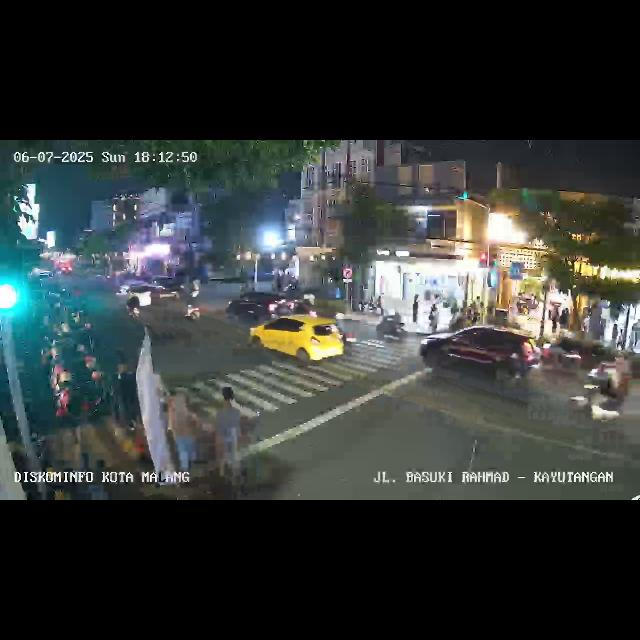car: (418, 324, 542, 384), (248, 312, 348, 370), (224, 290, 296, 328), (120, 280, 177, 314)
motorcycle: (572, 358, 632, 424), (376, 309, 408, 343), (185, 289, 202, 323), (126, 291, 142, 321)
person: (162, 392, 198, 484), (214, 390, 246, 486), (428, 300, 438, 332), (411, 294, 421, 326), (558, 306, 570, 330), (448, 300, 458, 328), (548, 302, 558, 330), (471, 299, 481, 325), (612, 322, 620, 351), (631, 323, 639, 351)
